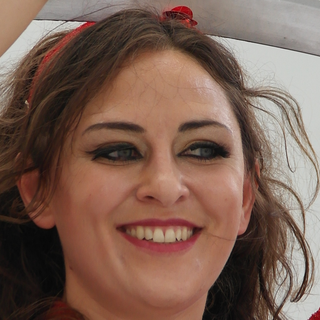eye: (172, 135, 235, 169), (85, 140, 149, 168)
